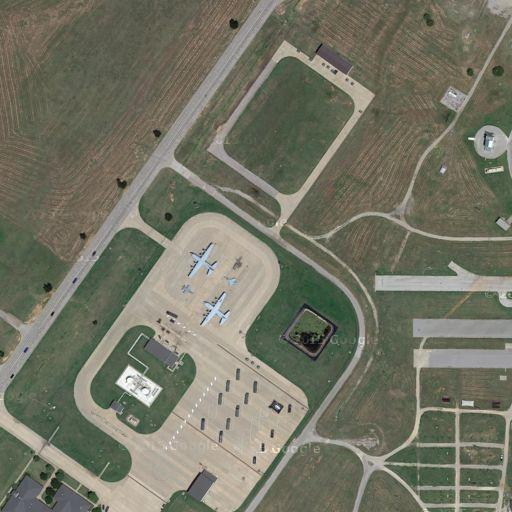C-130: (195, 290, 237, 331), (182, 242, 222, 282)
